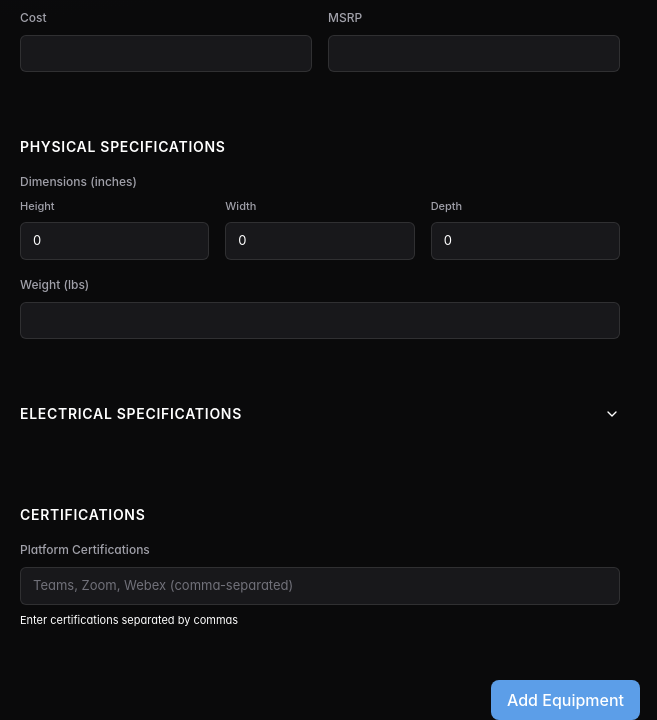
EquipmentForm › Form Validation › shows error when manufacturer is empty on submit
The width and height of the screenshot is (657, 720).
(page scrolled)
Click the button "Add Equipment".
click(566, 700)  # box [491,680,640,719]
(page scrolled)
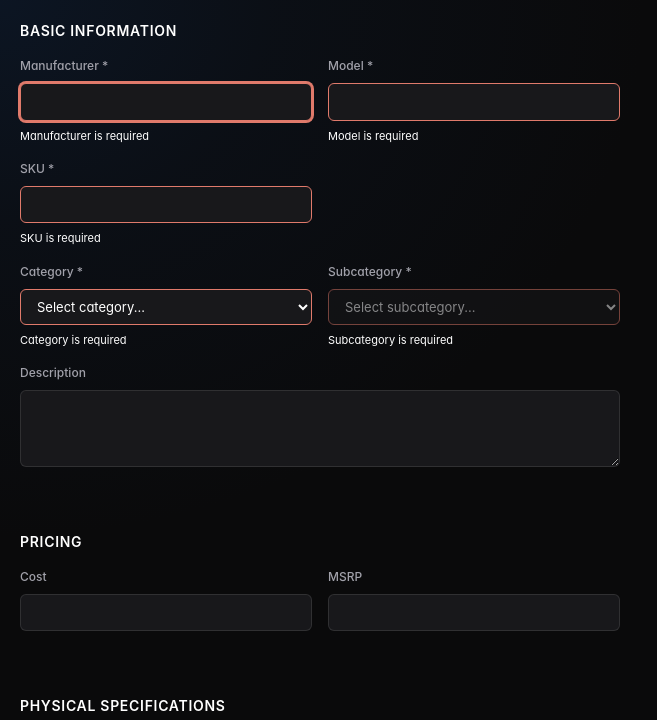
Check: the text "Manufacturer is required" is shown, box [20,128,149,142]
